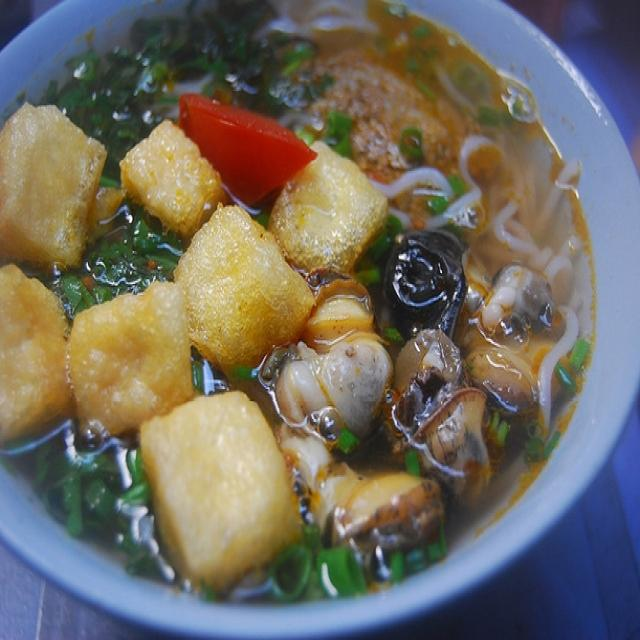面条主食: (5, 8, 616, 615)
